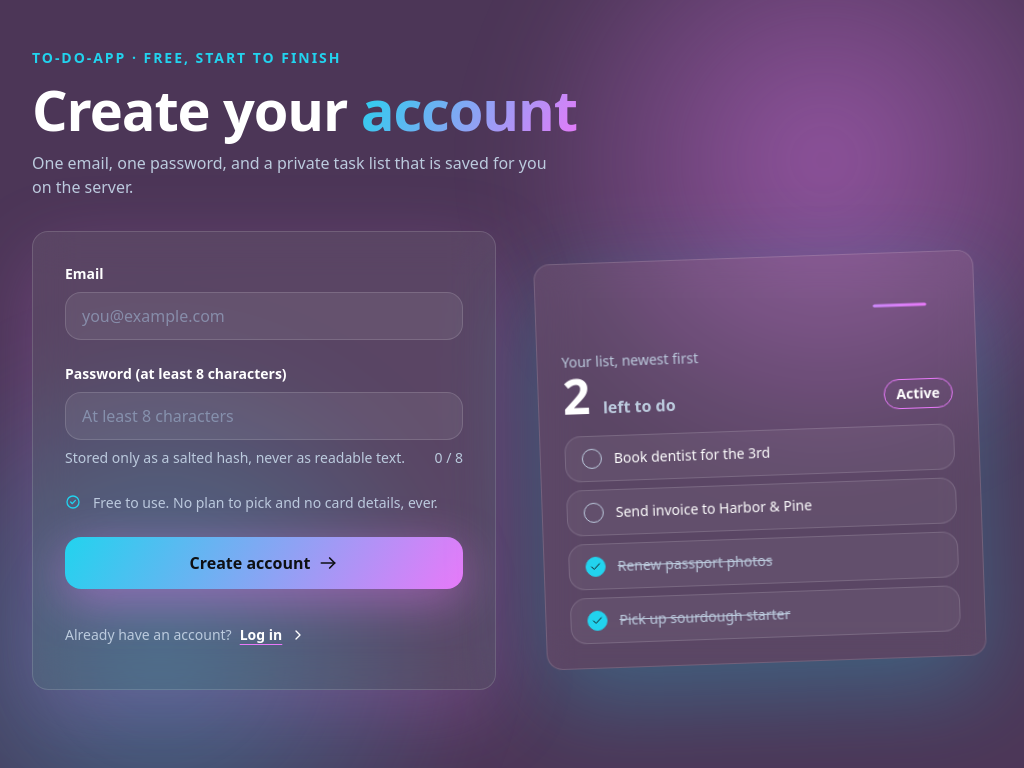
Signup › [AC-002] blank fields show required messages, no request
The image size is (1024, 768).
Click the button "Create account" at x=264, y=563, box left=65, top=537, right=463, bottom=589
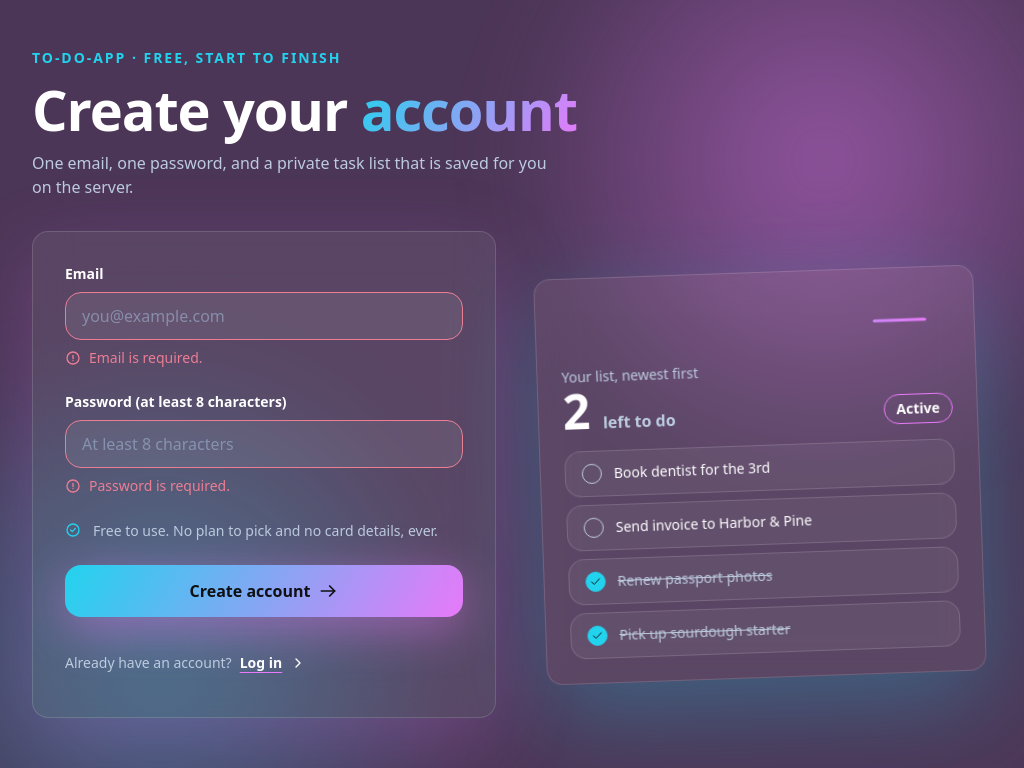
expect the text "Email is required." is shown: met, box left=89, top=348, right=203, bottom=368
expect the text "Password is required." is shown: met, box left=89, top=476, right=230, bottom=496
